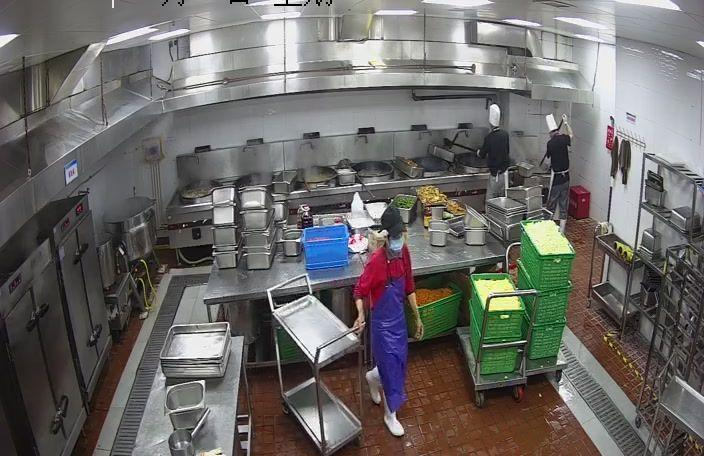mask: (382, 234, 410, 255)
no_apron: (411, 318, 428, 341), (354, 312, 365, 335)
